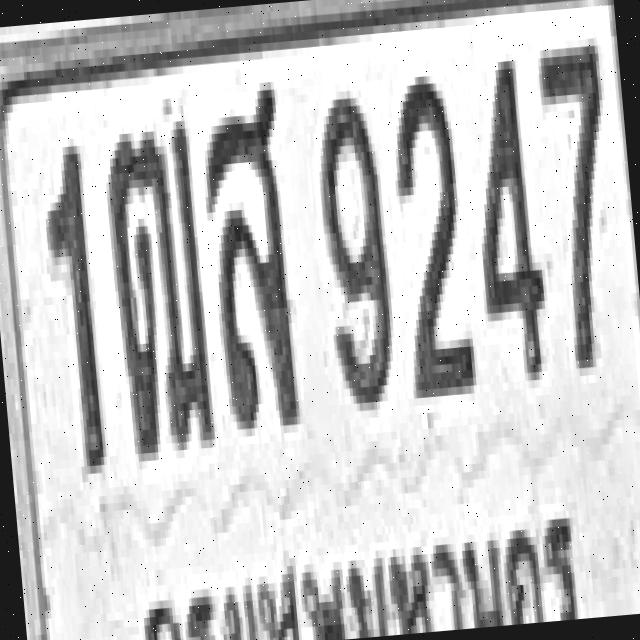1: (38, 138, 108, 476)
2: (386, 66, 476, 398)
27ThorPhuThao: (100, 116, 216, 458)
4: (462, 51, 551, 384)
49SorSuea: (195, 78, 303, 434)
7: (536, 38, 625, 370)
9: (312, 88, 400, 412)
